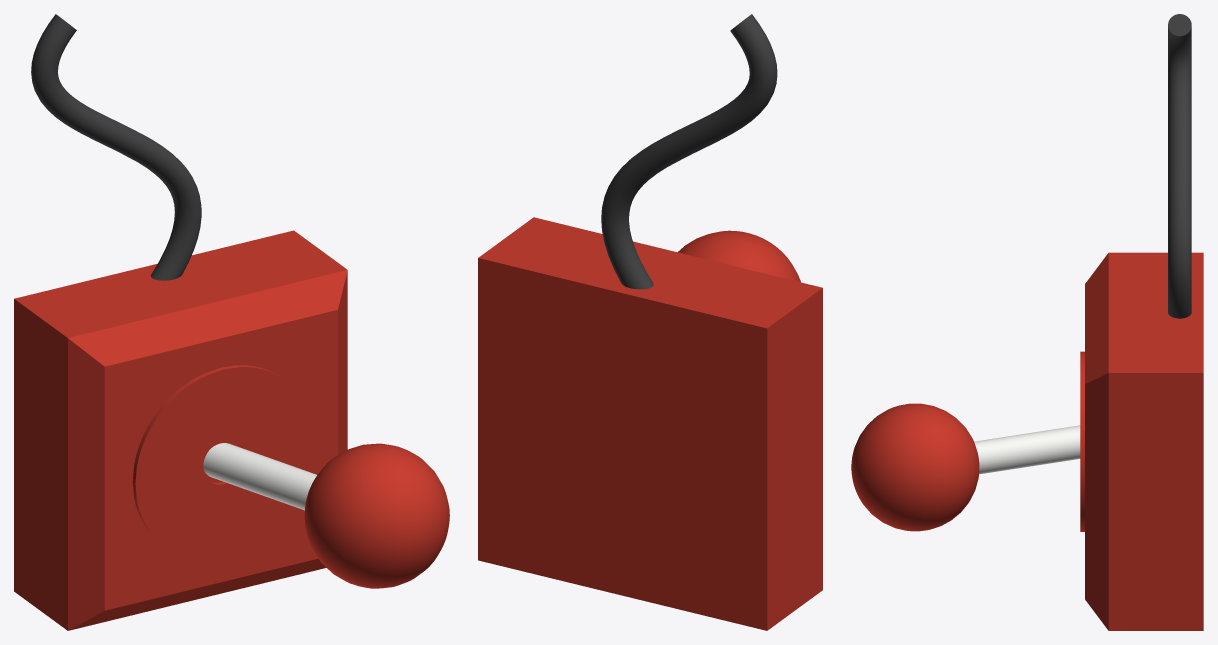
The model's file is JOYSTI v1.fbx.
3 renders of one model, left to right at view 1: azimuth 30°, elevation 25°; view 2: azimuth 150°, elevation 25°; view 3: azimuth 270°, elevation 25°, orthographic. The views are drawn at different scales.
Parts seen in each view (by area): view 1: Body1 (×3); view 2: Body1 (×3); view 3: Body1 (×3).
Boxes of the visible parts, x1,y1,x2,y2 form: Body1 (×3): [14, 14, 449, 630]; Body1 (×3): [478, 14, 822, 630]; Body1 (×3): [851, 14, 1203, 630].
Bounding box in the file's own units: 60 × 119 × 74.22.
